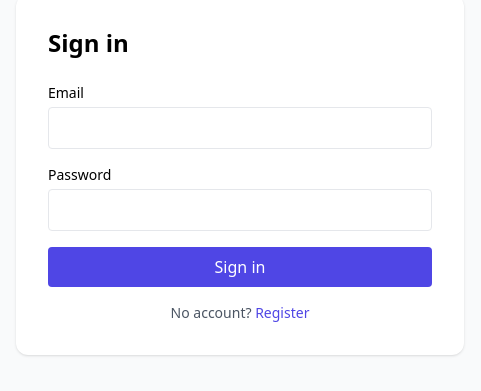
Test: LoginPage › shows error message on failed login
Type "bad@test.com" into the field with test id "email-input" at (240, 128), box [48,107,432,149]
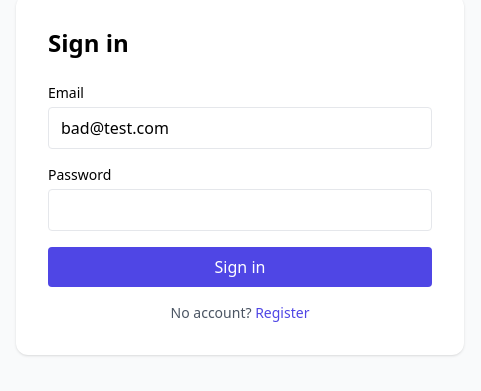
Type "wrongpass" into the password field with test id "password-input" at (240, 210), box [48,189,432,231]
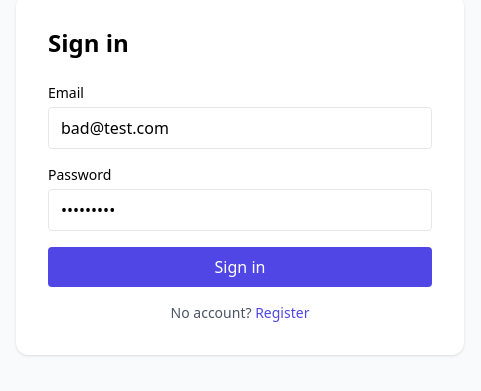
Click the button with test id "submit-button" at (240, 267), box [48,247,432,287]
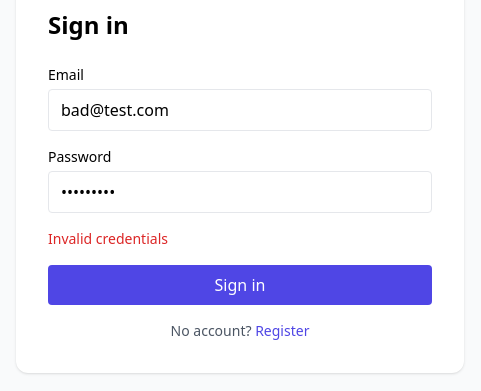
Result: the text with test id "error-message" reads "Invalid credentials" at [48,229,168,248]
